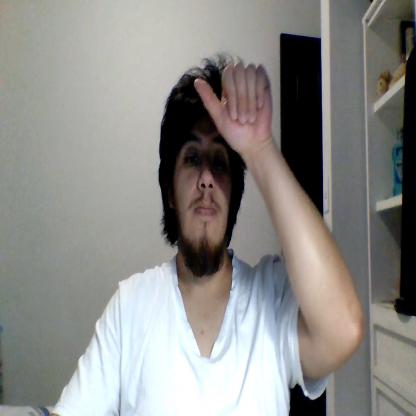A: (194, 61, 273, 146)
